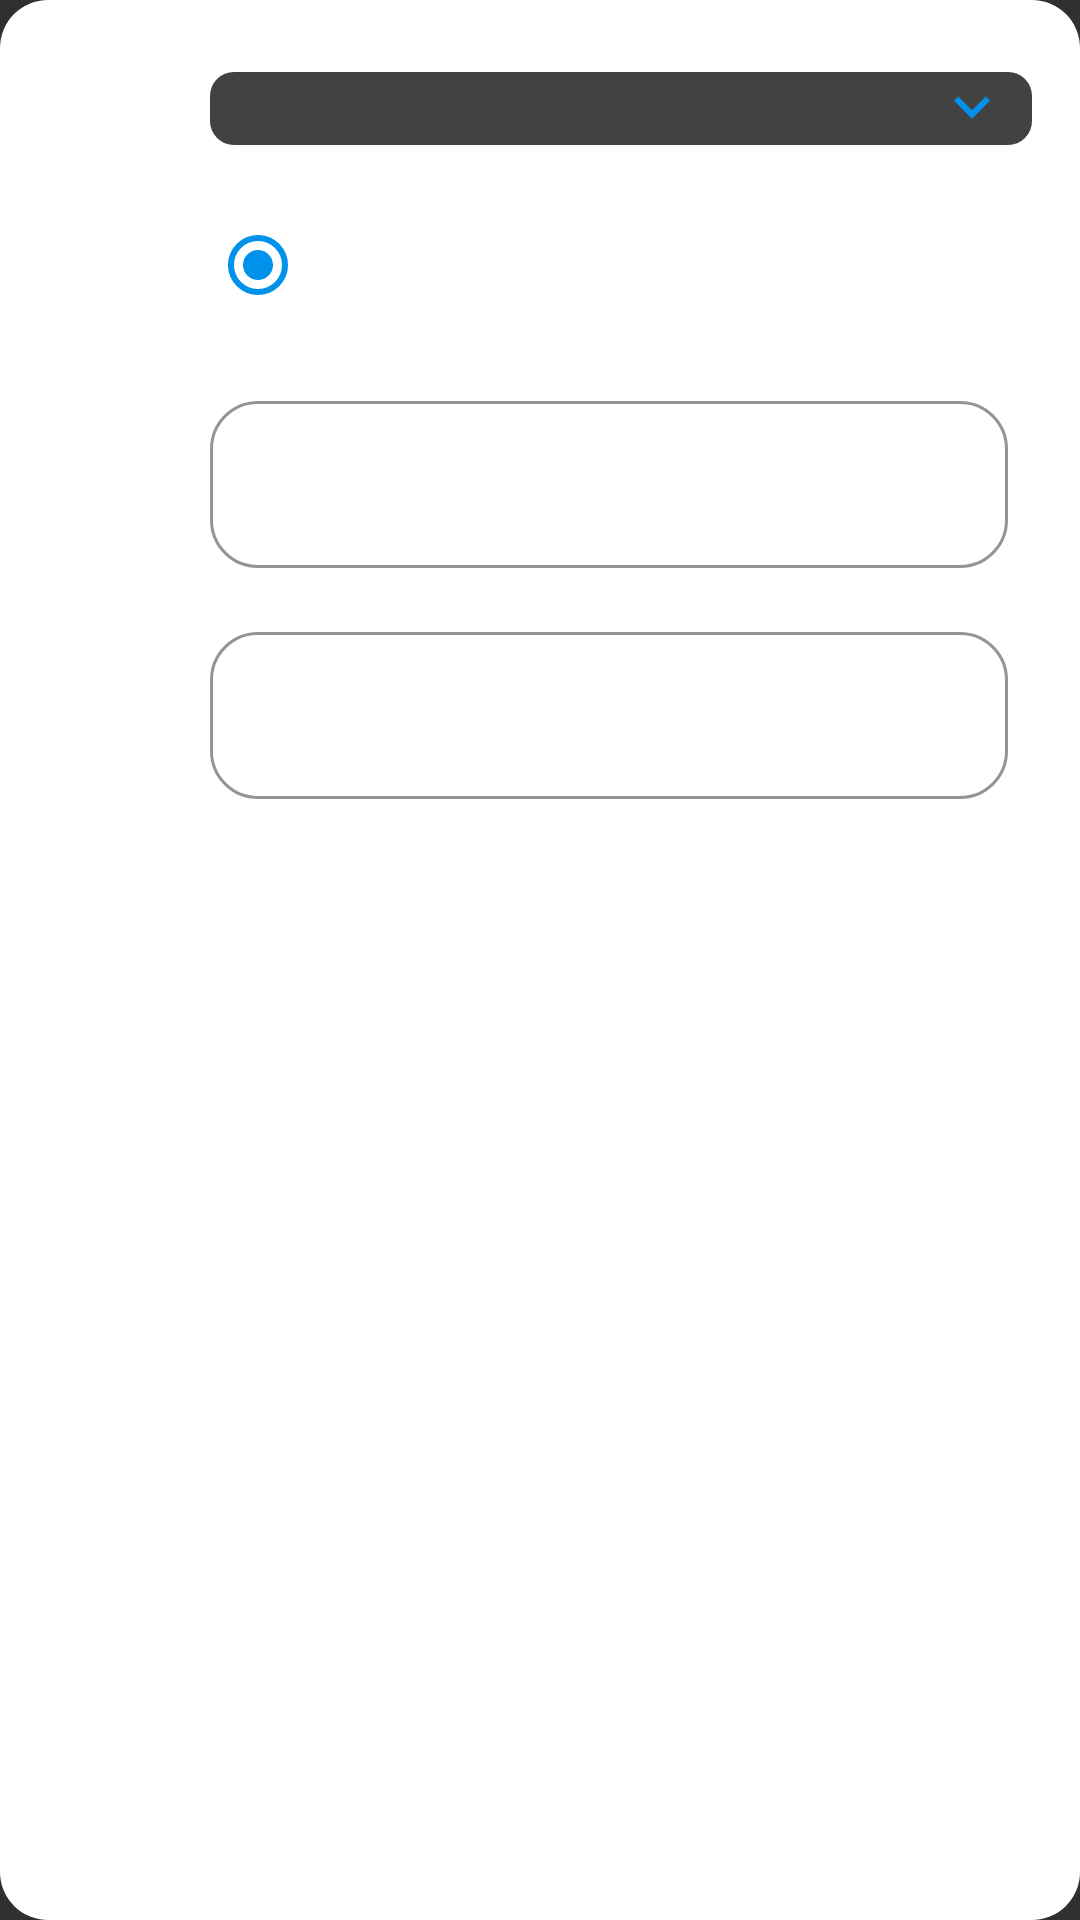

Screen size 1080×1920. Icon name, then its box in pixels as (x1, y1, x2, y2):
spinner arrow down: (954, 96, 990, 119)
